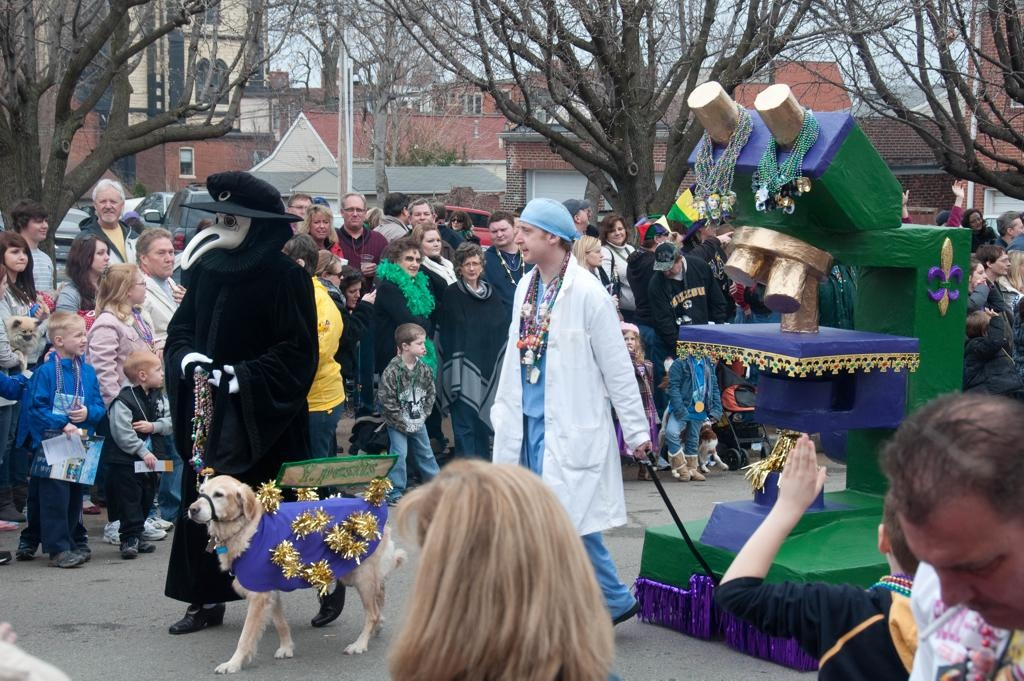human_face: (902, 506, 1024, 631), (512, 221, 546, 264), (148, 238, 176, 278), (94, 188, 120, 222), (62, 322, 86, 356), (344, 196, 364, 230), (4, 244, 28, 272), (459, 250, 481, 280), (92, 238, 110, 273), (401, 247, 421, 277), (130, 270, 148, 302), (420, 232, 442, 258), (490, 221, 514, 244), (26, 214, 48, 239), (290, 197, 310, 223), (408, 331, 428, 357), (586, 240, 606, 266), (329, 257, 345, 289), (410, 204, 432, 227), (312, 212, 330, 240), (148, 357, 164, 388), (344, 278, 360, 308), (606, 218, 626, 242), (973, 260, 989, 290), (995, 250, 1011, 274), (662, 259, 682, 277), (574, 207, 592, 225), (622, 330, 636, 352), (655, 231, 671, 249), (968, 213, 984, 231), (1012, 216, 1024, 238), (670, 231, 684, 249), (449, 214, 463, 230), (174, 231, 184, 248)
